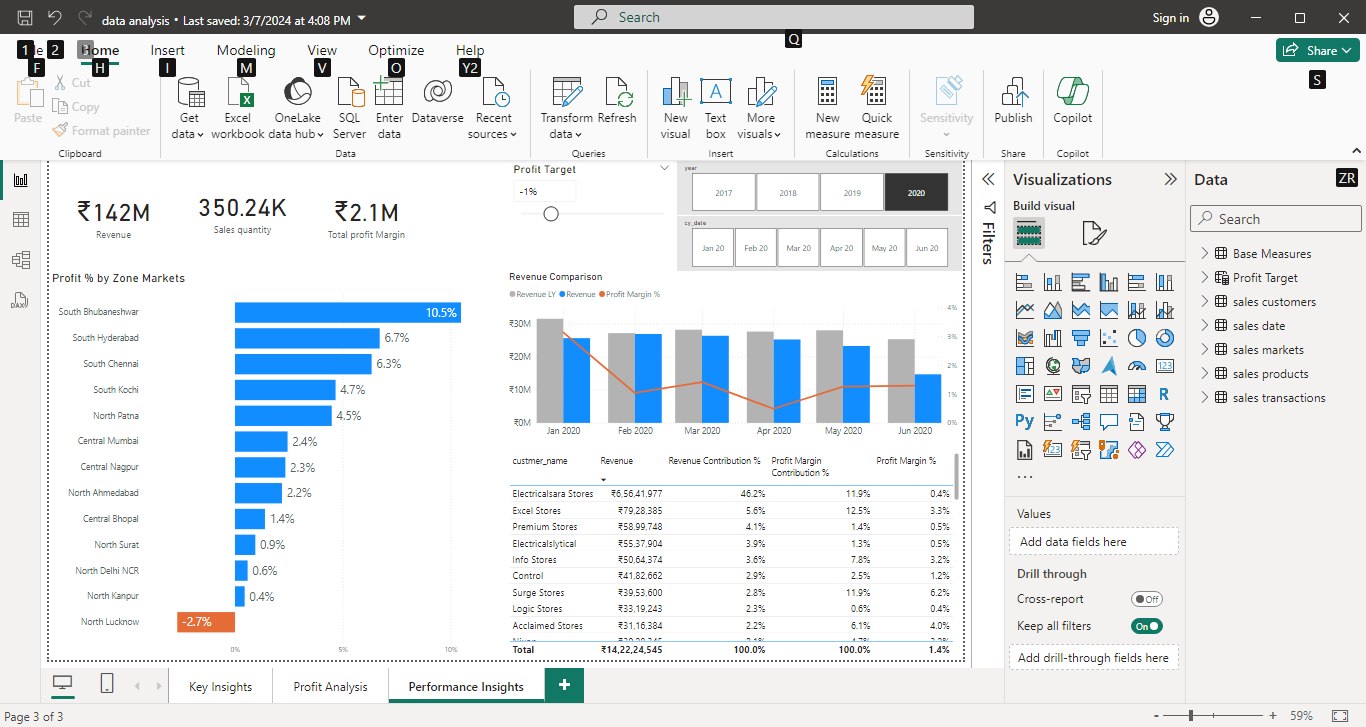

Layout of this report page (visuals, bound fields, positions):
{"tool":"powerbi","page":{"name":"Performance Insights","canvas":[1560,854],"ordinal":2},"visuals":[{"type":"card","fields":{"Values":["Base Measures.Revenue"]},"box":[0,0,220.3,189.6],"z":0},{"type":"textbox","box":[22,364,271,240],"z":1000},{"type":"card","fields":{"Values":["Base Measures.Sales quantity"]},"box":[220.3,0,220.3,174.2],"z":2000},{"type":"tableEx","title":"Top 5 Customer","fields":{"Values":["sales customers.custmer_name","Base Measures.Revenue","Base Measures.Revenue Contribution %","Base Measures.Profit Margin Contribution %","Base Measures.Profit Margin %"]},"box":[780.6,495.3,778.8,358.7],"z":3000},{"type":"lineClusteredColumnComboChart","title":"Revenue Comparison","fields":{"Category":["sales date.cy_date"],"Y2":["Base Measures.Profit Margin %"],"Y":["Base Measures.Revenue LY","Base Measures.Revenue"]},"box":[780.6,189.6,778.8,293.8],"z":4000},{"type":"card","fields":{"Values":["Base Measures.Total profit Margin"]},"box":[440.7,1.7,203.3,187.9],"z":5000},{"type":"slicer","fields":{"Values":["sales date.year"]},"box":[1072.6,1.7,486.8,92.2],"z":6000},{"type":"slicer","fields":{"Values":["sales date.cy_date"]},"box":[1072.6,95.6,486.8,93.9],"z":7000},{"type":"clusteredBarChart","title":"Profit % by Zone Markets","fields":{"Category":["sales markets.zone","sales markets.markets_name"],"Y":["Base Measures.Profit Margin %"]},"box":[0,189.6,780.6,664.4],"z":8000},{"type":"slicer","fields":{"Values":["Profit Target.Profit Target"]},"box":[780.6,0,292.1,189.6],"z":9000}]}

Visuals, with their boxes on the page's 1560x854 design canvas (x1, y1, x2, y2). These are canvas units, not pixel positions in the 1366x727 screenshot, which may show the page scaled, cropped or inside an application window:
card - Base Measures.Revenue: bbox=(0, 0, 220, 190)
textbox: bbox=(22, 364, 293, 604)
card - Base Measures.Sales quantity: bbox=(220, 0, 441, 174)
"Top 5 Customer" tableEx: bbox=(781, 495, 1559, 854)
"Revenue Comparison" lineClusteredColumnComboChart: bbox=(781, 190, 1559, 483)
card - Base Measures.Total profit Margin: bbox=(441, 2, 644, 190)
slicer - sales date.year: bbox=(1073, 2, 1559, 94)
slicer - sales date.cy_date: bbox=(1073, 96, 1559, 190)
"Profit % by Zone Markets" clusteredBarChart: bbox=(0, 190, 781, 854)
slicer - Profit Target.Profit Target: bbox=(781, 0, 1073, 190)
